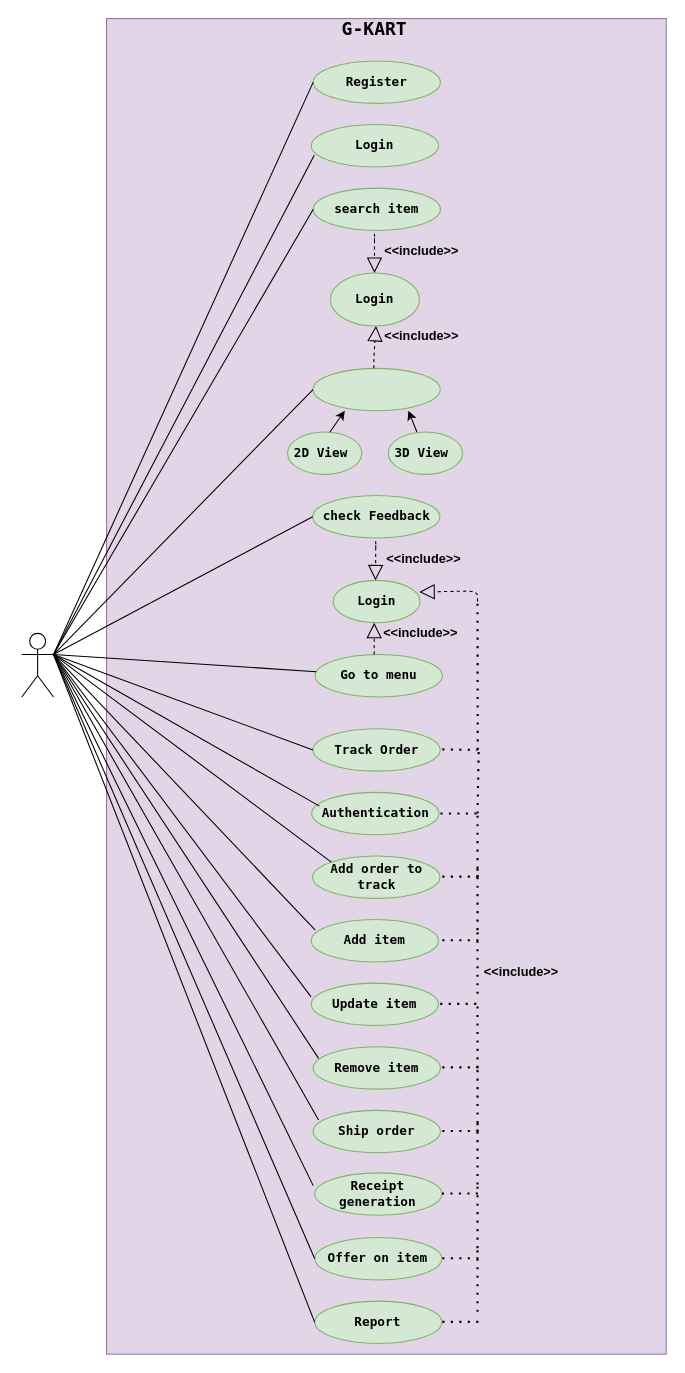
This 685x1373 diagram has some shape labels left out. The centre of each missing label's shape, as x and y in pixels:
Admin: (37,664)
View item: (376,389)
